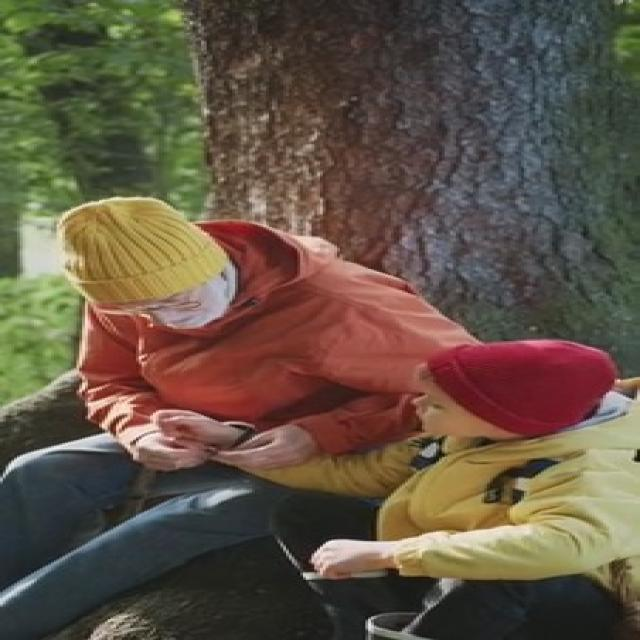Jacket_Wearer: (96, 256, 488, 445)
Person: (92, 199, 444, 504)
